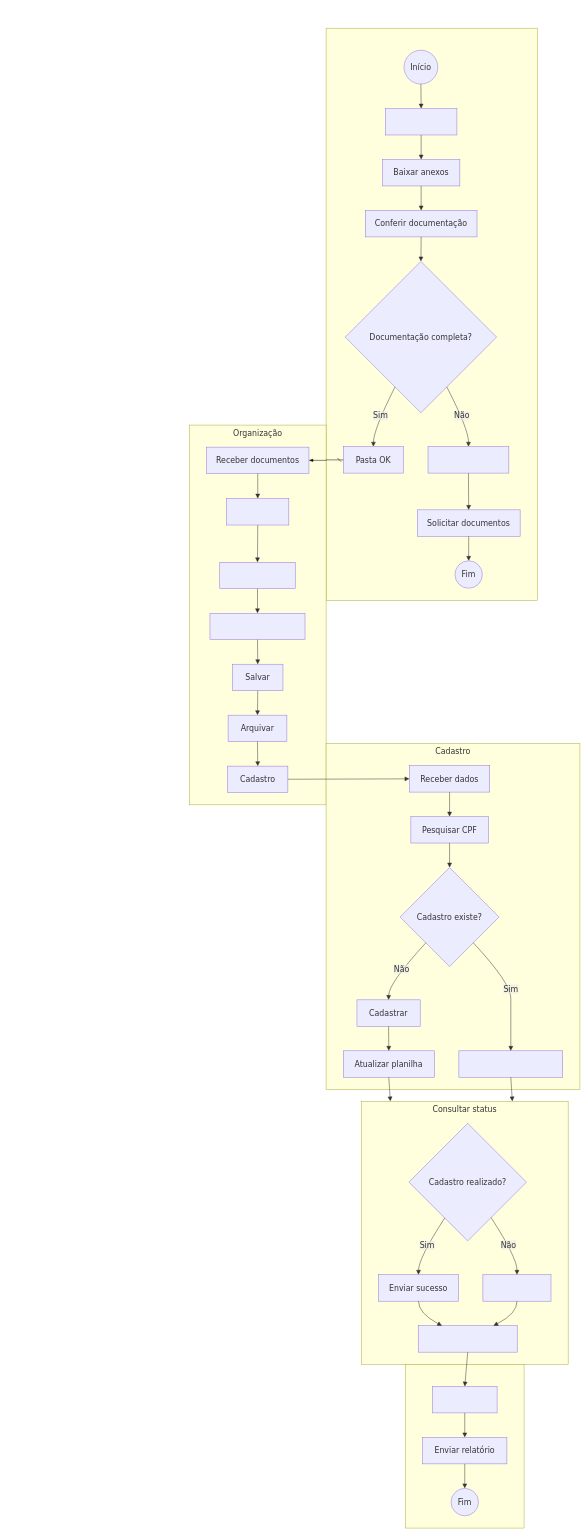
This 588x1537 diagram has some shape labels left out. The box of each missing label's shape, as (x1, y1, x2, y2) in pixels:
Abrir e-mail: (385, 108, 457, 135)
Abrir PDF: (226, 498, 289, 525)
Atendimento: (326, 28, 537, 600)
Consolidar métricas: (418, 1325, 517, 1352)
Enviar erro: (482, 1274, 551, 1301)
Extrair dados: (219, 562, 295, 589)
Gerar PDF: (432, 1386, 497, 1413)
Gerência: (405, 1364, 524, 1528)
Pasta Ausentes: (428, 446, 509, 473)
Preencher Planilha: (209, 613, 305, 640)
Registrar duplicidade: (458, 1050, 563, 1077)
